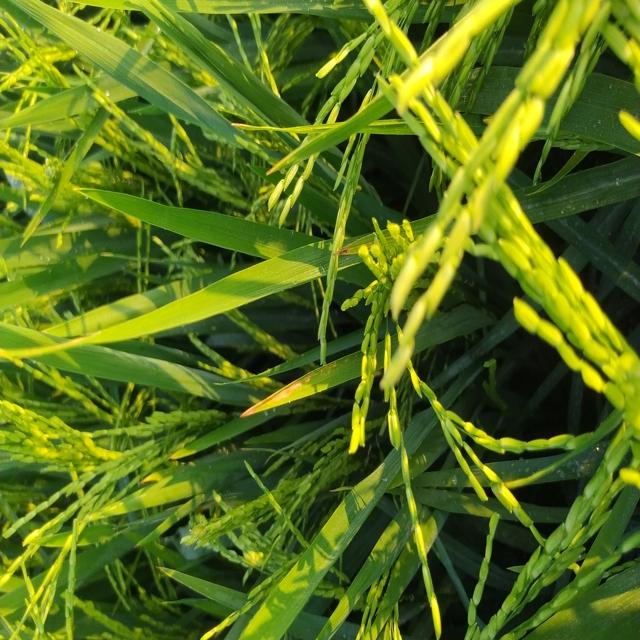Brown spot: (228, 346, 360, 425)
